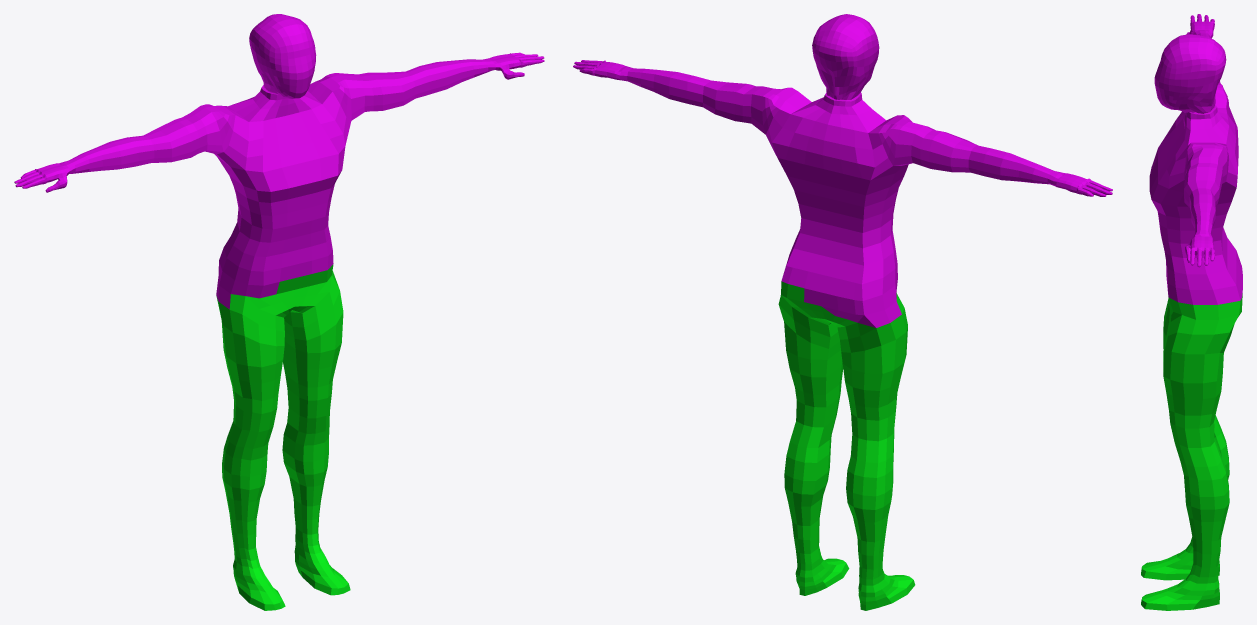
Rendered from gozer_kleur.gltf.
The picture shows the model from 3 angles, left to right: view 1: azimuth 30°, elevation 25°; view 2: azimuth 150°, elevation 25°; view 3: azimuth 270°, elevation 25°; orthographic projection. The views are drawn at different scales.
Parts seen in each view (by area): view 1: Cube; view 2: Cube; view 3: Cube.
Boxes of the visible parts, x1,y1,x2,y2 form: Cube: (14,14,544,610); Cube: (573,14,1112,610); Cube: (1141,14,1242,610).
Size of the model in its own units: 1.73 by 1.77 by 0.2958.
